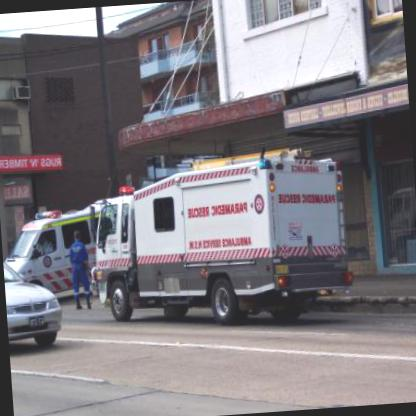truck: (84, 144, 360, 332), (0, 204, 116, 298)
